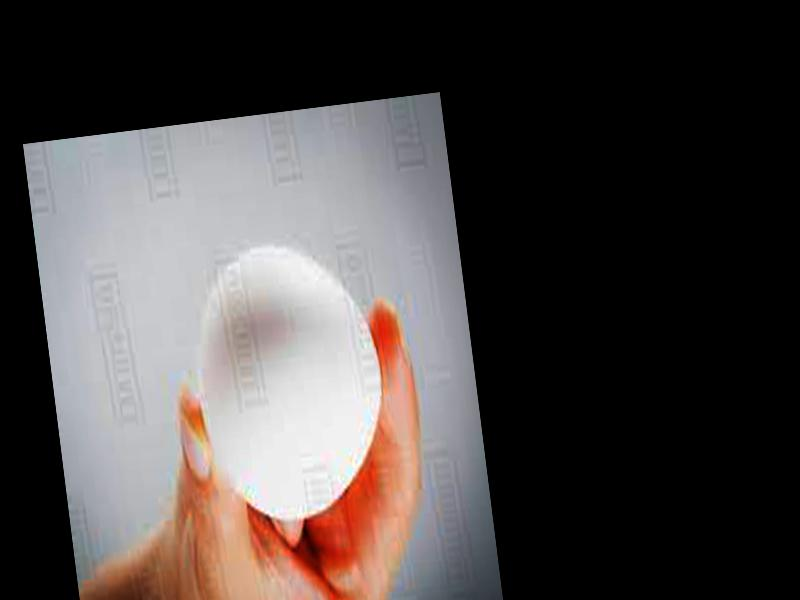Eggs: (183, 237, 397, 518)
